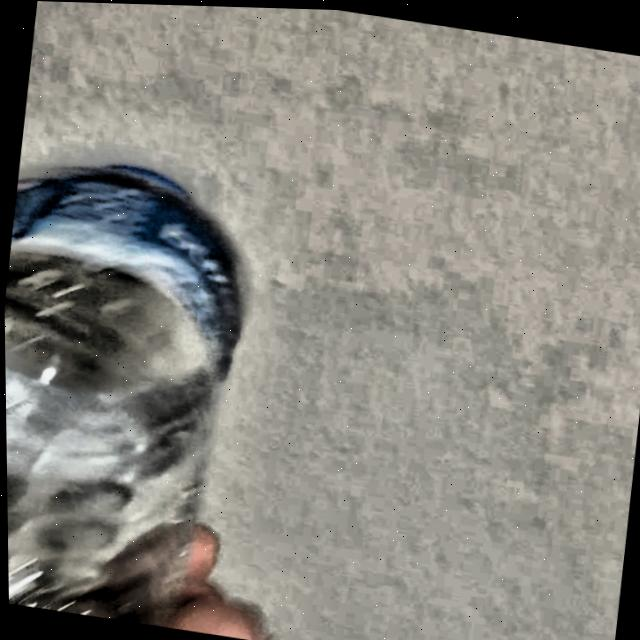plastic: (3, 157, 252, 625)
